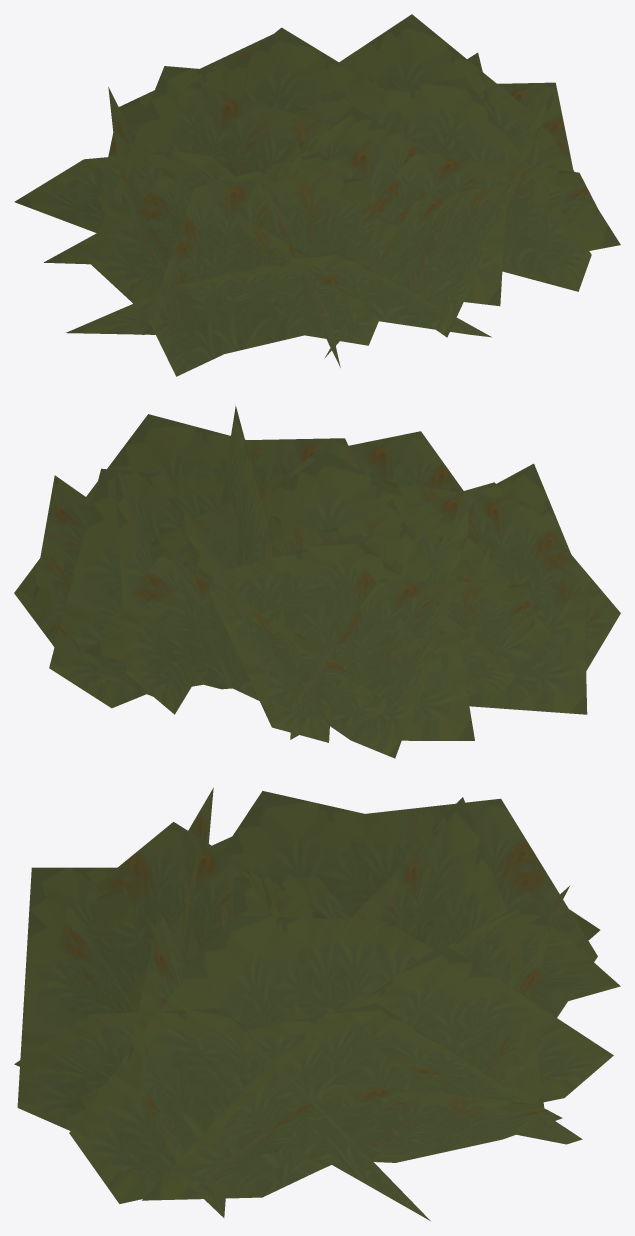
Rendered from MSH_fwOF_Moss_M_1.fbx.
3 renders of one model, top to bottom at view 1: azimuth 30°, elevation 25°; view 2: azimuth 150°, elevation 25°; view 3: azimuth 270°, elevation 25°, orthographic. The views are drawn at different scales.
Parts seen in each view (by area): view 1: MSH_fwOF_Moss_M_1; view 2: MSH_fwOF_Moss_M_1; view 3: MSH_fwOF_Moss_M_1.
Boxes of the visible parts, x1,y1,x2,y2 form: MSH_fwOF_Moss_M_1: (14, 14, 620, 376); MSH_fwOF_Moss_M_1: (14, 405, 620, 758); MSH_fwOF_Moss_M_1: (14, 788, 620, 1220).
Bounding box in the file's own units: 0.7866 × 0.3156 × 0.6467.
